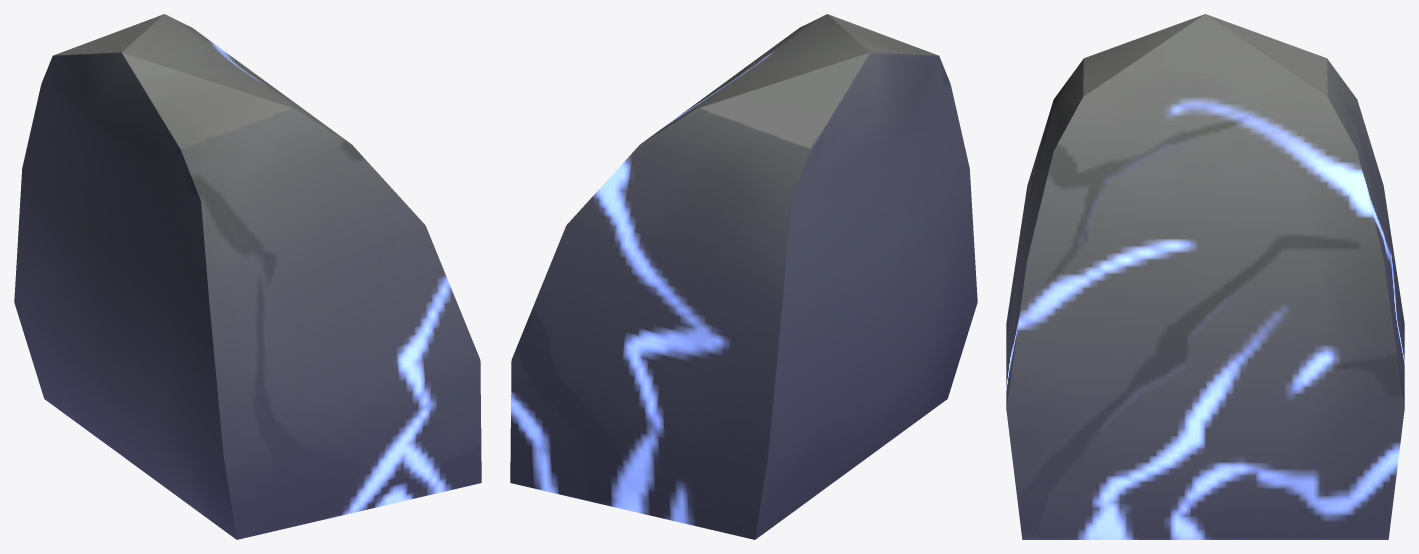
Rendered from rock_y5.fbx.
3 renders of one model, left to right at view 1: azimuth 30°, elevation 25°; view 2: azimuth 150°, elevation 25°; view 3: azimuth 270°, elevation 25°, orthographic. The views are drawn at different scales.
Parts seen in each view (by area): view 1: Cube.002.frozen; view 2: Cube.002.frozen; view 3: Cube.002.frozen.
Boxes of the visible parts, x1,y1,x2,y2 form: Cube.002.frozen: (14,14,481,539); Cube.002.frozen: (510,14,977,539); Cube.002.frozen: (1006,14,1404,539).
Size of the model in its own units: 54.99 by 77.6 by 69.36.
Materials: 1 (1 with a texture image).
